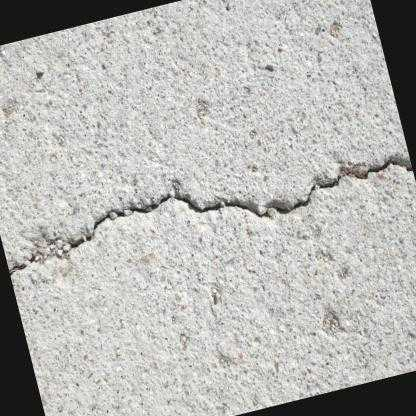crack: (8, 155, 413, 279)
